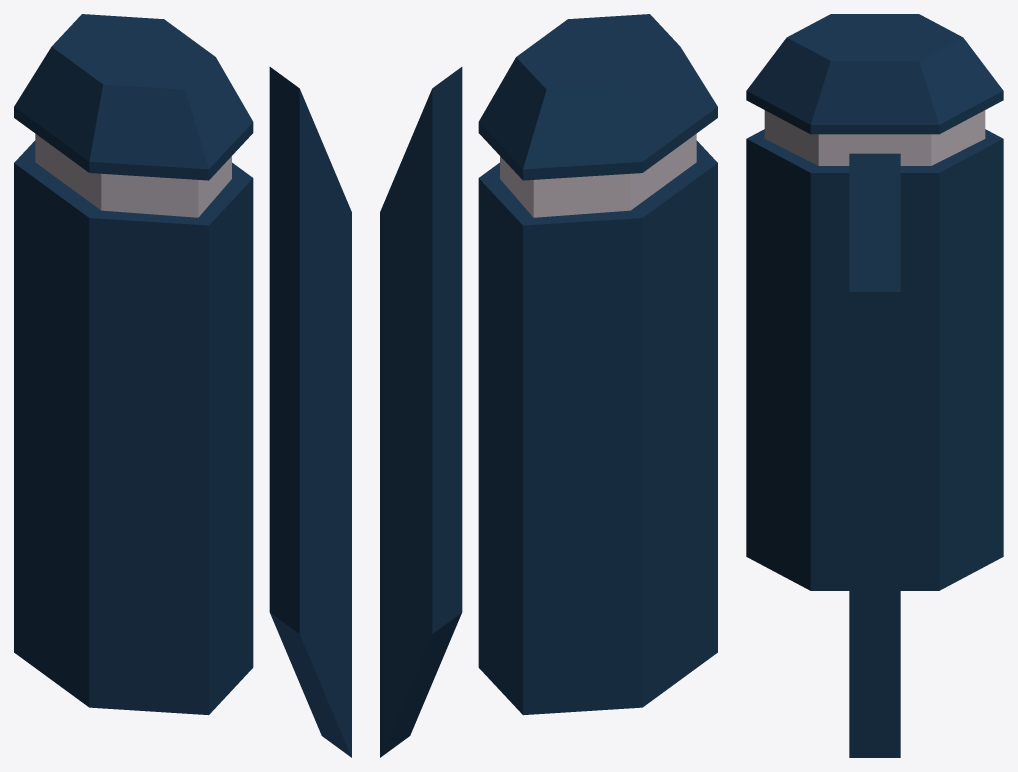
The model's file is WallPillar.fbx.
3 renders of one model, left to right at view 1: azimuth 30°, elevation 25°; view 2: azimuth 150°, elevation 25°; view 3: azimuth 270°, elevation 25°, orthographic. The views are drawn at different scales.
Parts seen in each view (by area): view 1: Circle; view 2: Circle; view 3: Circle.
Part boxes in pixels (left/top/right/bottom): Circle: left=14, top=14, right=351, bottom=757; Circle: left=380, top=14, right=717, bottom=757; Circle: left=746, top=14, right=1003, bottom=757.
Size of the model in its own units: 219 by 546 by 200.
